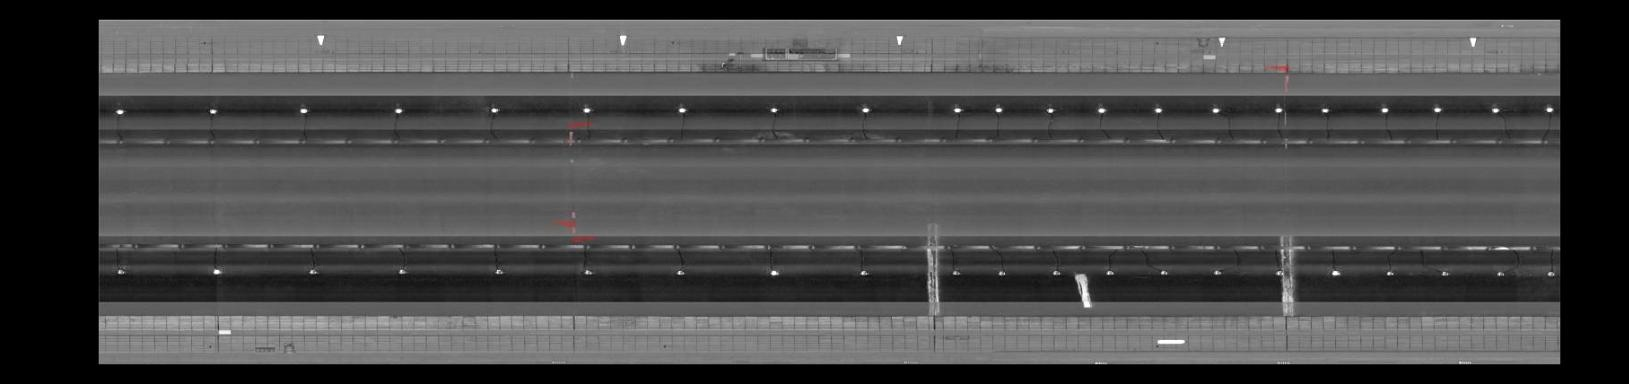light: (763, 265, 784, 279), (853, 104, 876, 116), (304, 265, 323, 279), (489, 265, 509, 278), (577, 104, 597, 116), (112, 264, 130, 278), (208, 264, 225, 278), (389, 104, 407, 117), (766, 103, 784, 116), (671, 266, 689, 279), (1154, 266, 1172, 279), (393, 265, 411, 277), (1493, 265, 1508, 279), (1542, 266, 1556, 281), (673, 104, 691, 116), (1327, 266, 1344, 278), (201, 106, 221, 116), (854, 268, 873, 279), (486, 104, 503, 116), (1486, 103, 1502, 115), (295, 105, 313, 116), (579, 268, 596, 279), (1376, 104, 1393, 115), (1206, 104, 1224, 115), (111, 106, 128, 117), (1382, 267, 1398, 278), (1092, 104, 1109, 115), (1428, 104, 1446, 114), (1050, 267, 1065, 279), (990, 104, 1006, 115), (1541, 104, 1556, 115), (1101, 268, 1118, 278), (949, 268, 963, 279), (993, 268, 1008, 279), (1042, 104, 1057, 115), (1209, 268, 1224, 279), (1438, 268, 1452, 279), (1318, 104, 1333, 115), (1150, 104, 1165, 115), (949, 104, 966, 113), (1270, 103, 1285, 113), (1271, 268, 1284, 278)
